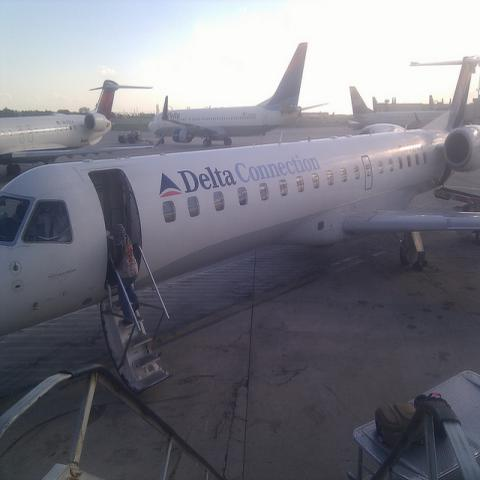car: (118, 133, 135, 143)
